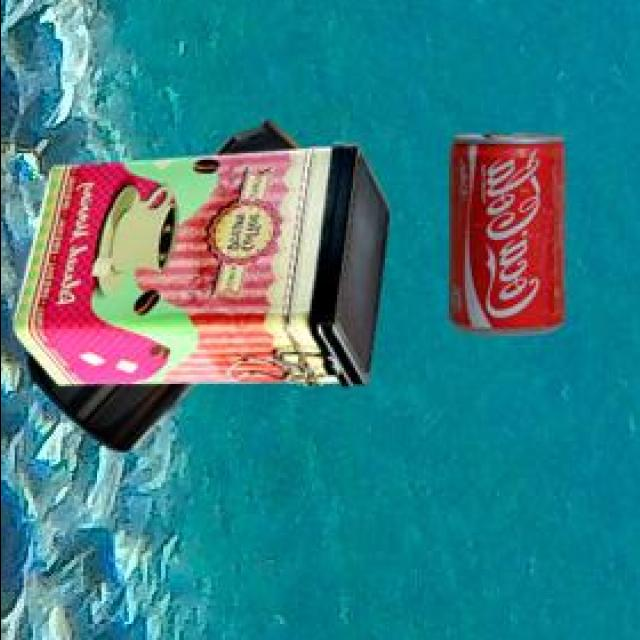logam: (31, 122, 303, 456), (17, 145, 392, 387), (451, 138, 568, 339)
